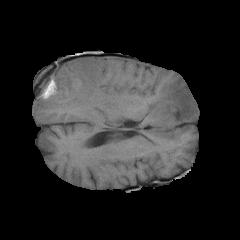glioma: (36, 58, 197, 126)
